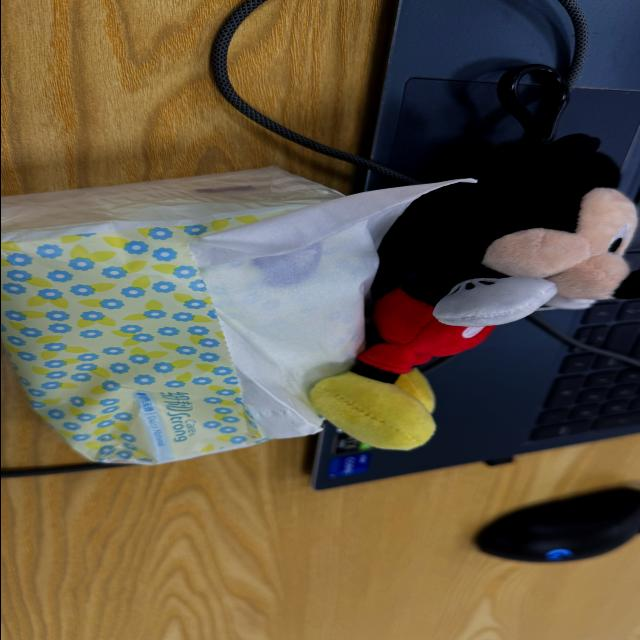mickey: (311, 135, 639, 449)
tissue: (0, 166, 474, 463)
